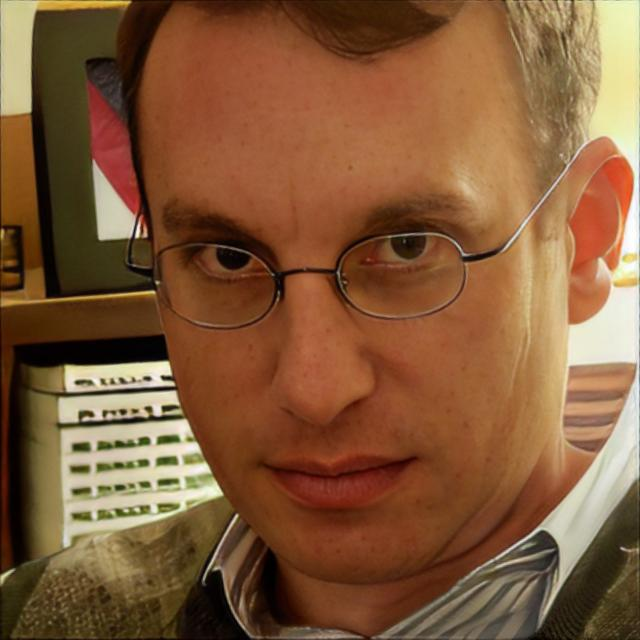neutral: (137, 2, 568, 584)
